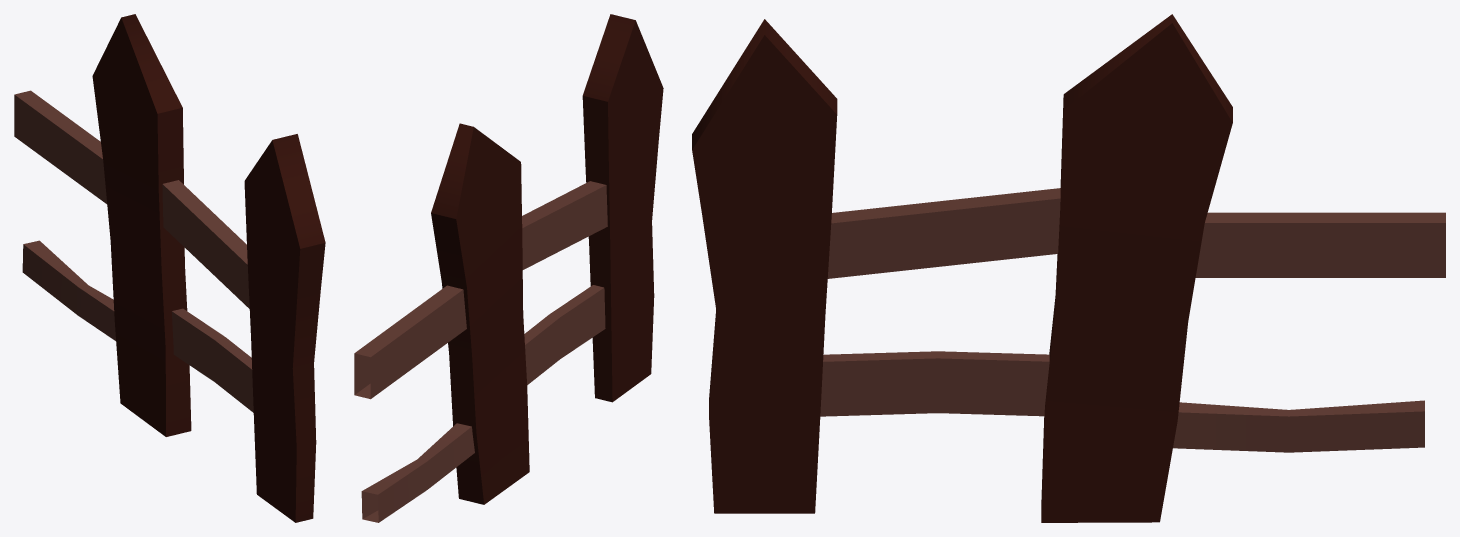
Rendered from Fence2.fbx.
3 renders of one model, left to right at view 1: azimuth 30°, elevation 25°; view 2: azimuth 150°, elevation 25°; view 3: azimuth 270°, elevation 25°, orthographic. The views are drawn at different scales.
Parts seen in each view (by area): view 1: Fence2; view 2: Fence2; view 3: Fence2.
Part boxes in pixels (x1=…): Fence2: x1=14, y1=14, x2=325, y2=522; Fence2: x1=354, y1=14, x2=663, y2=522; Fence2: x1=692, y1=14, x2=1445, y2=522.
Bounding box in the file's own units: 8.57 × 123 × 170.
